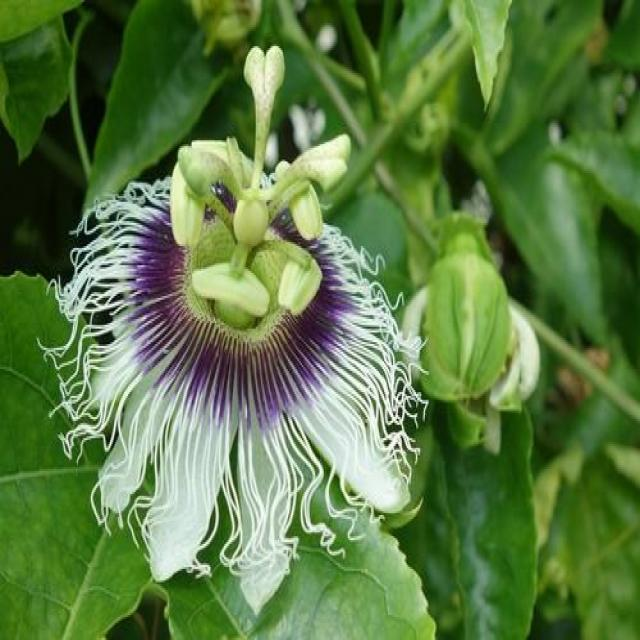organic waste: (52, 47, 418, 583)
